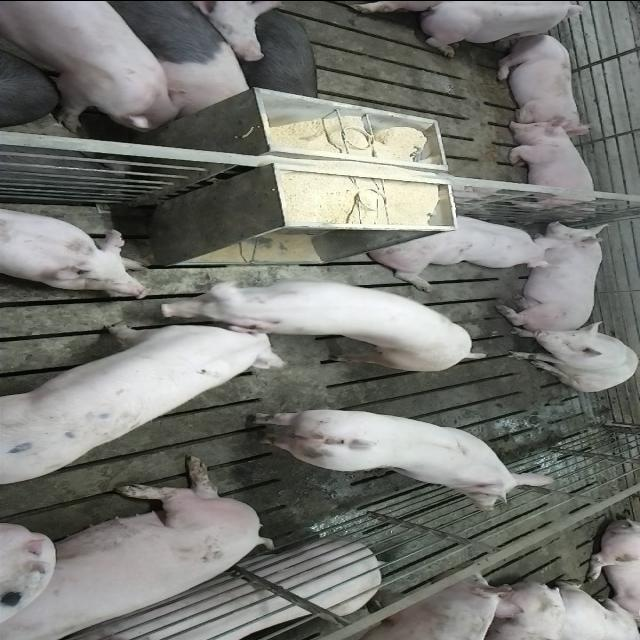Lateral_lying: (4, 453, 278, 636), (62, 538, 384, 640)
Sitting: (504, 322, 638, 392)
Standing: (5, 316, 290, 486), (238, 407, 556, 514), (188, 276, 491, 372), (0, 2, 188, 134), (85, 2, 256, 120), (272, 563, 520, 640)
Sternal_lying: (366, 210, 556, 282), (0, 204, 152, 294), (506, 219, 612, 327), (502, 116, 602, 215), (416, 2, 598, 56), (491, 31, 588, 130)
